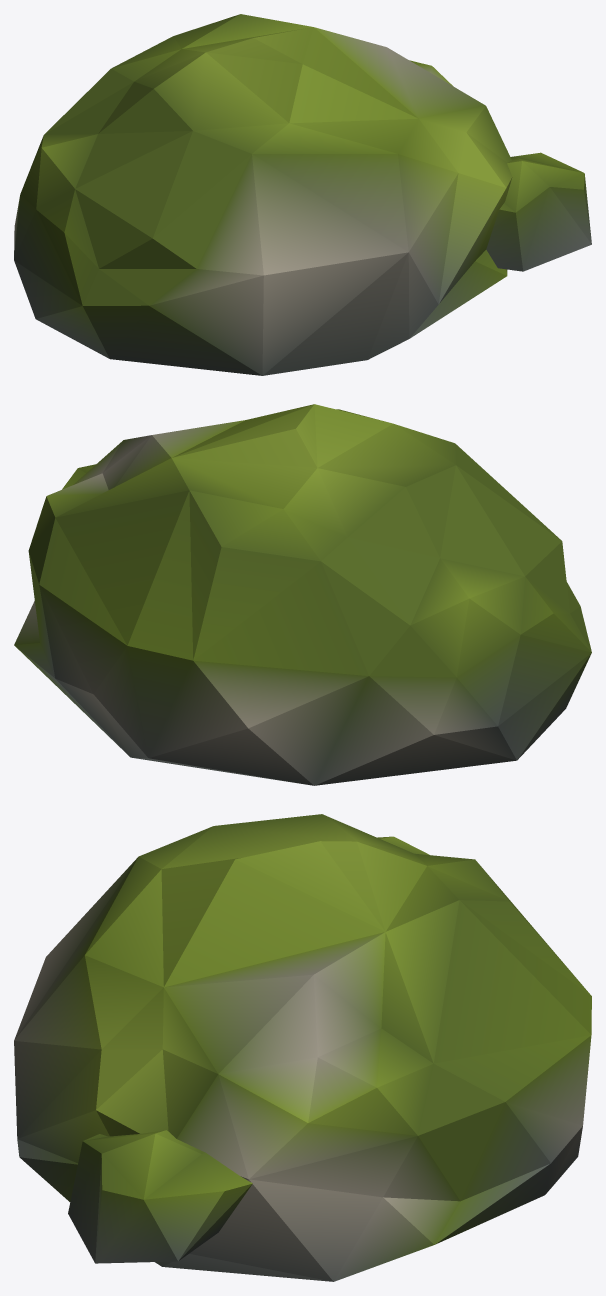
File: river_boulder_large-lod1.glb
3 views of the same model, one above another, from view 1: azimuth 30°, elevation 25°; view 2: azimuth 150°, elevation 25°; view 3: azimuth 270°, elevation 25° (orthographic). The views are drawn at different scales.
Visible parts, largest first — view 1: river_boulder_large; view 2: river_boulder_large; view 3: river_boulder_large.
Part boxes in pixels (x1,y1,x2,y2): river_boulder_large: (14, 14, 591, 375); river_boulder_large: (14, 404, 591, 785); river_boulder_large: (14, 814, 591, 1281).
Bounding box in the file's own units: 4.47 × 2.13 × 3.53.
